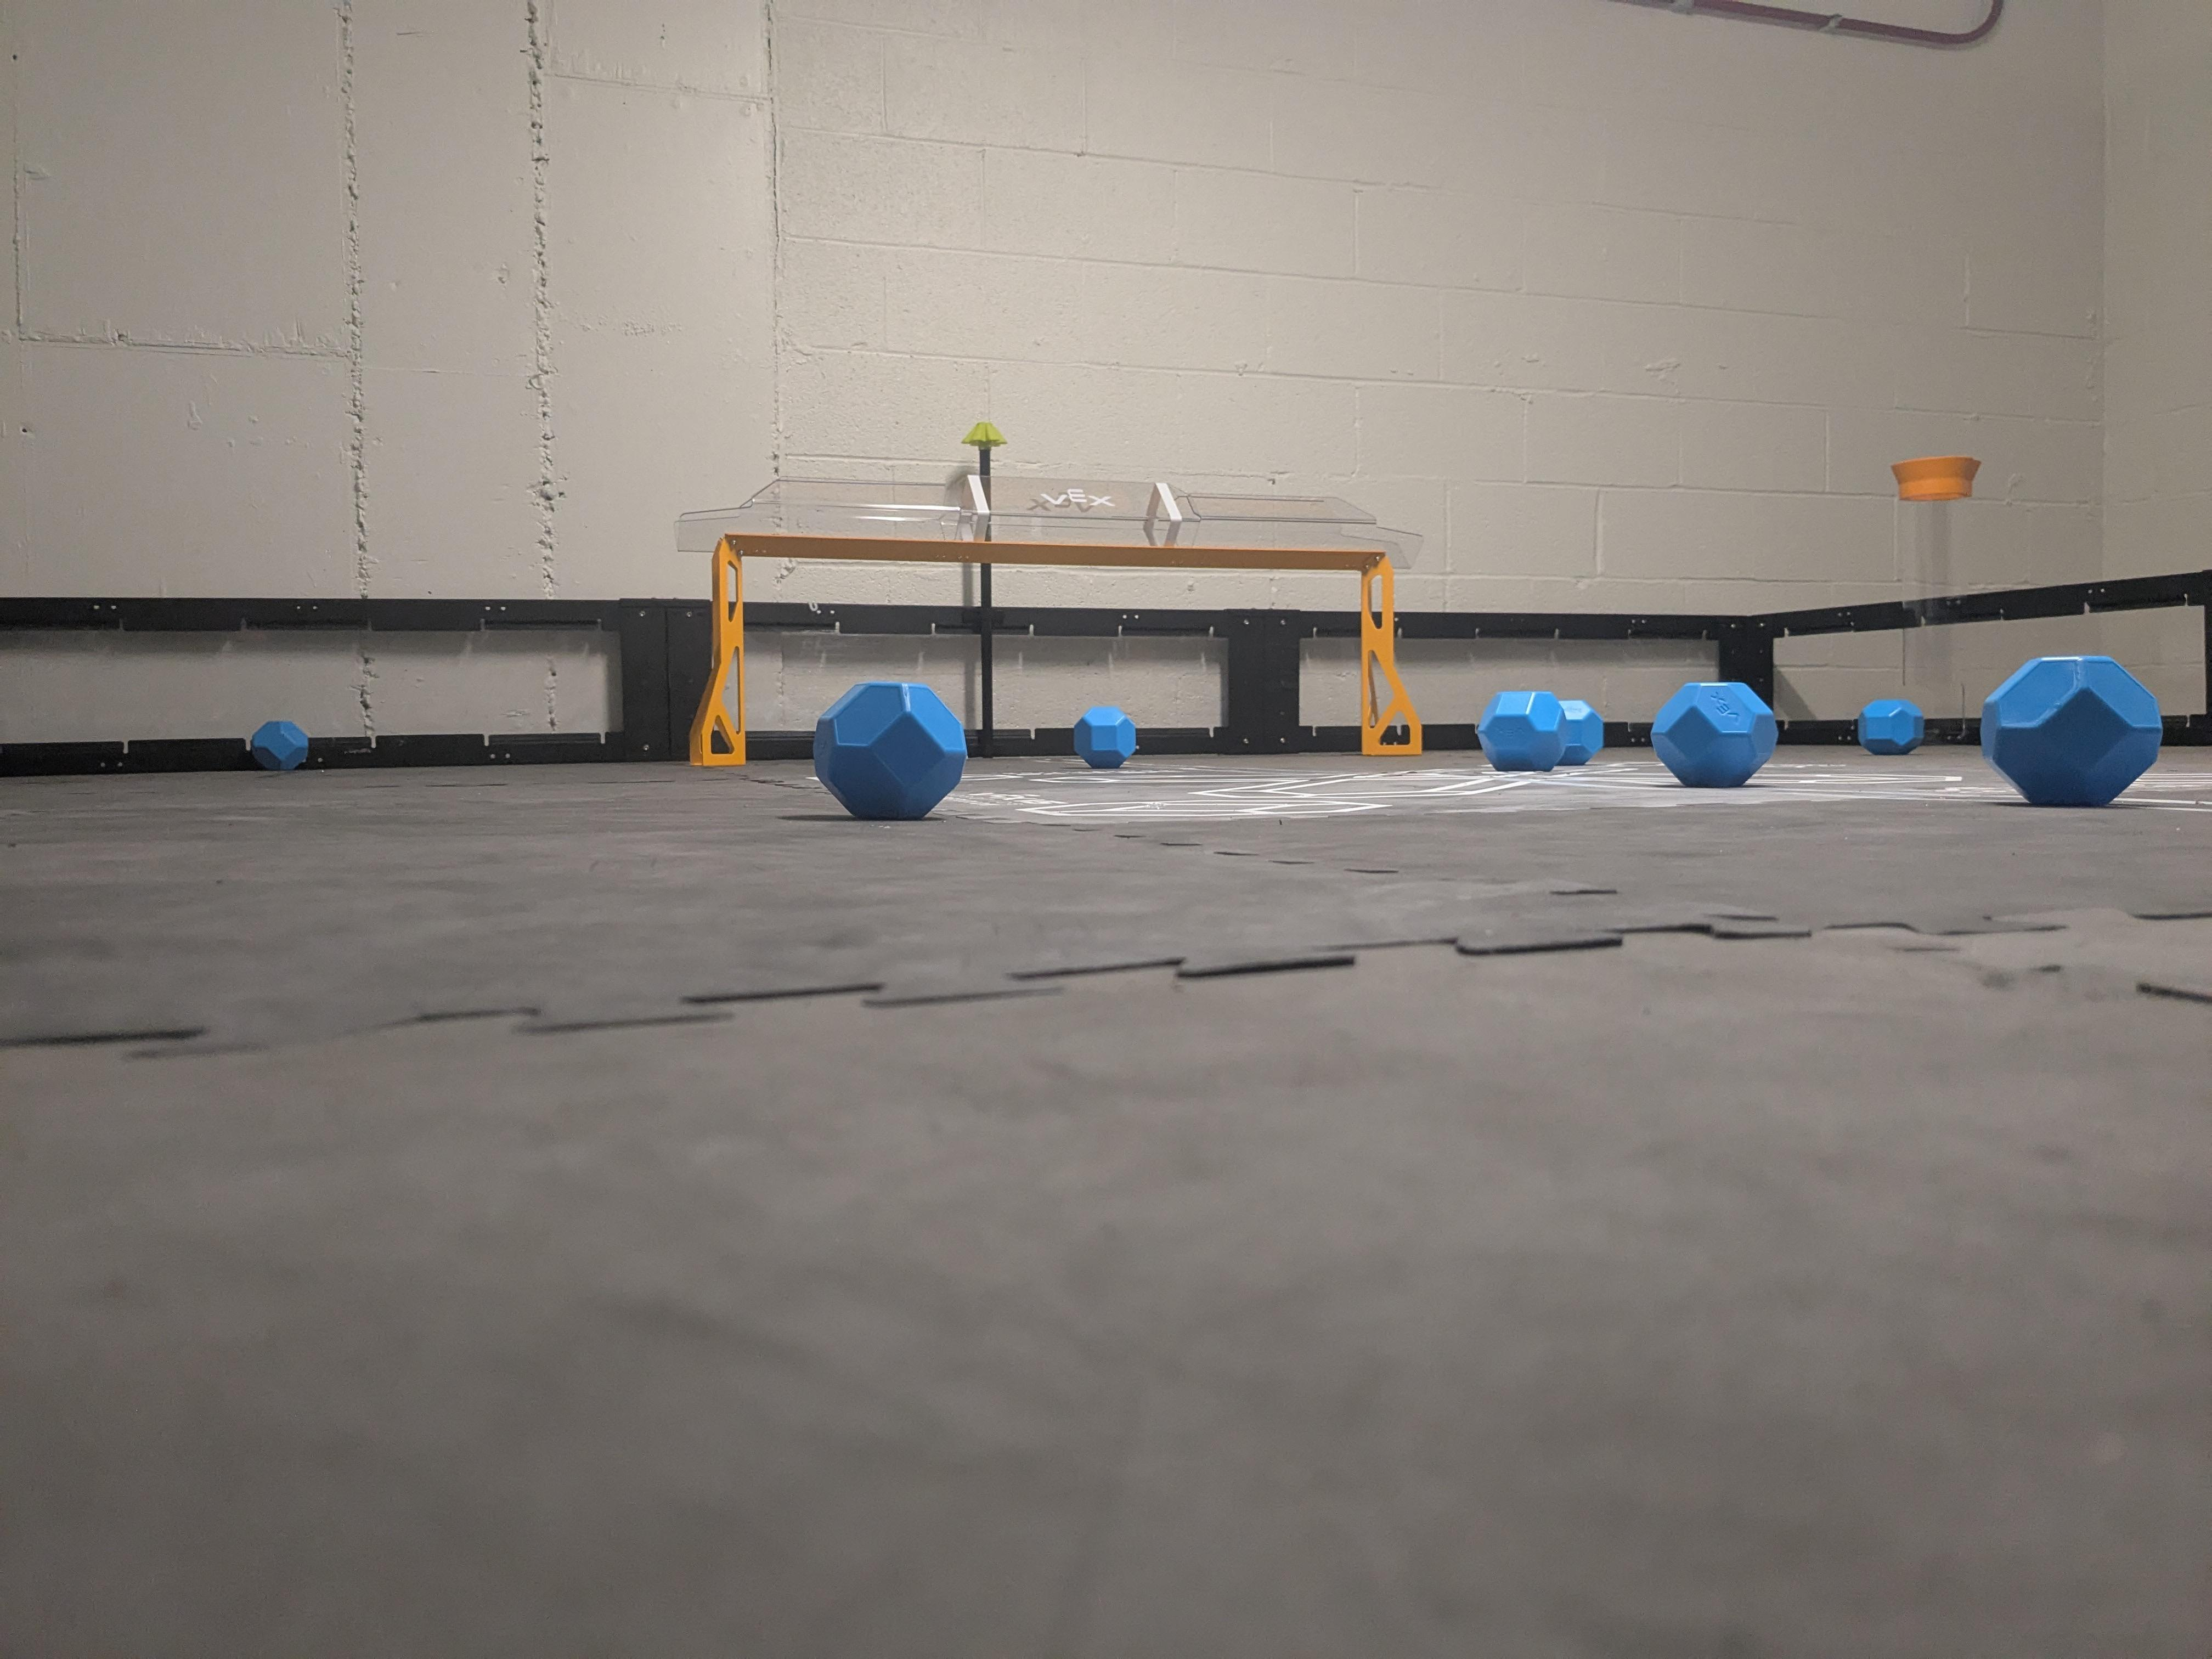Vex-Pieces-BLUE: (1977, 653, 2163, 805), (812, 678, 963, 816), (1651, 681, 1777, 784), (1479, 688, 1602, 767), (1857, 699, 1925, 755), (1075, 709, 1132, 767), (249, 720, 308, 770)
